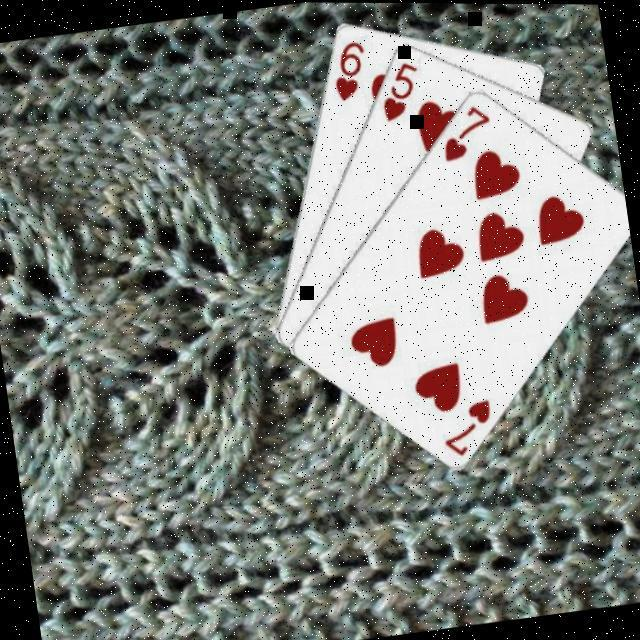5H: (373, 56, 427, 125)
6H: (325, 36, 374, 105)
7H: (435, 395, 499, 462), (434, 100, 498, 165)
